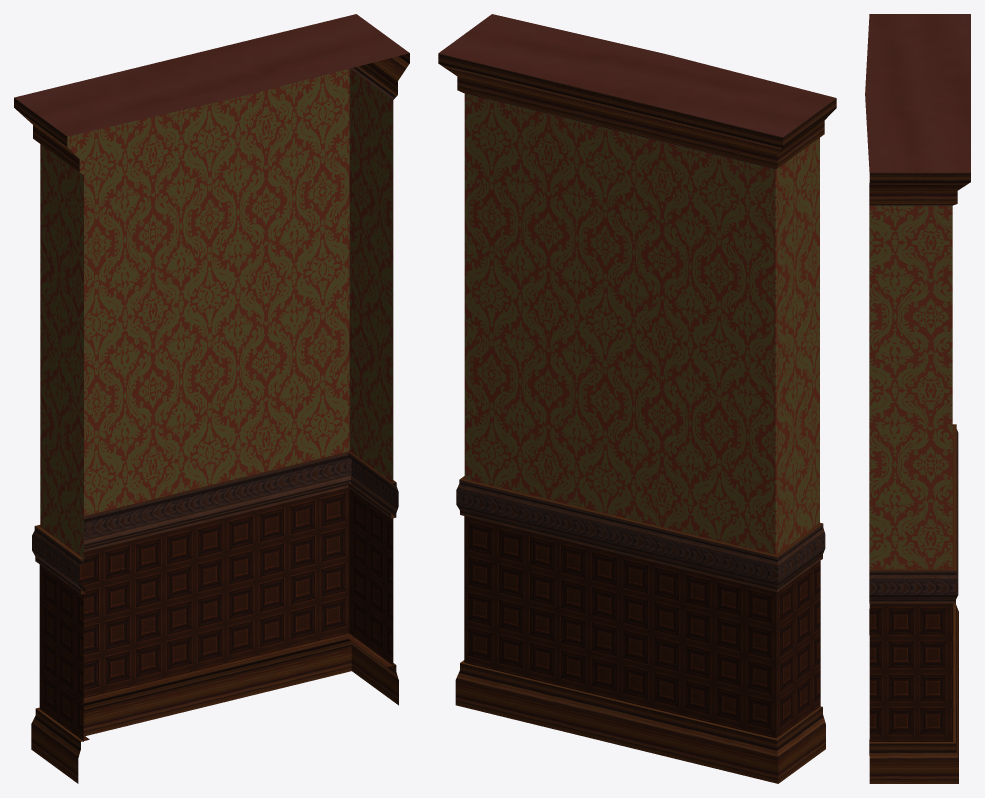
Rendered from Wall1Outcrop.fbx.
3 renders of one model, left to right at view 1: azimuth 30°, elevation 25°; view 2: azimuth 150°, elevation 25°; view 3: azimuth 270°, elevation 25°, orthographic. The views are drawn at different scales.
Visible parts, largest first — view 1: Wall Outie_Large; view 2: Wall Outie_Large; view 3: Wall Outie_Large.
Part boxes in pixels (x1,y1,x2,y2): Wall Outie_Large: [14, 14, 409, 783]; Wall Outie_Large: [438, 14, 836, 783]; Wall Outie_Large: [865, 14, 970, 783].
Bounding box in the file's own units: 205 × 371 × 57.74.
